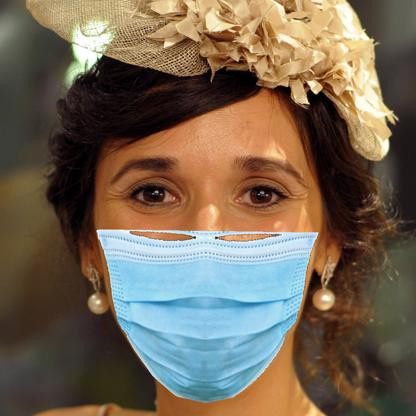mask: (91, 227, 318, 406)
